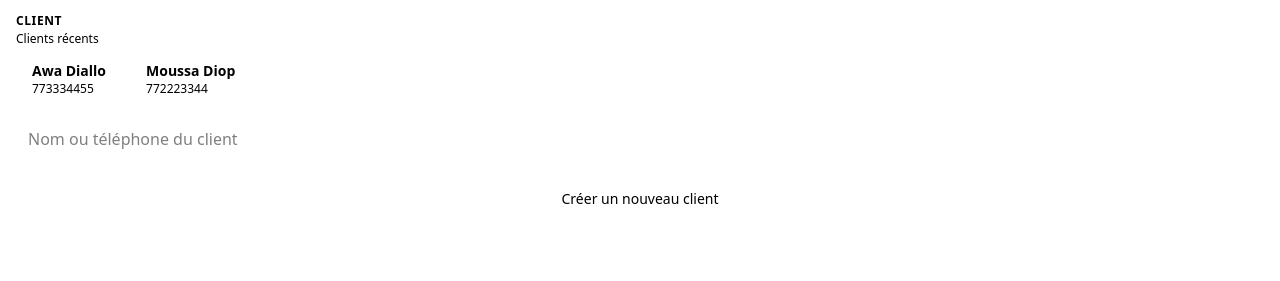
Scenario: SaleClientPicker — chips clients récents › clic sur une chip : sélectionne le client et pré-remplit le champ
The image size is (1280, 281).
Click the button "Awa Diallo 773334455" at (69, 79), box 16,55 -> 122,103
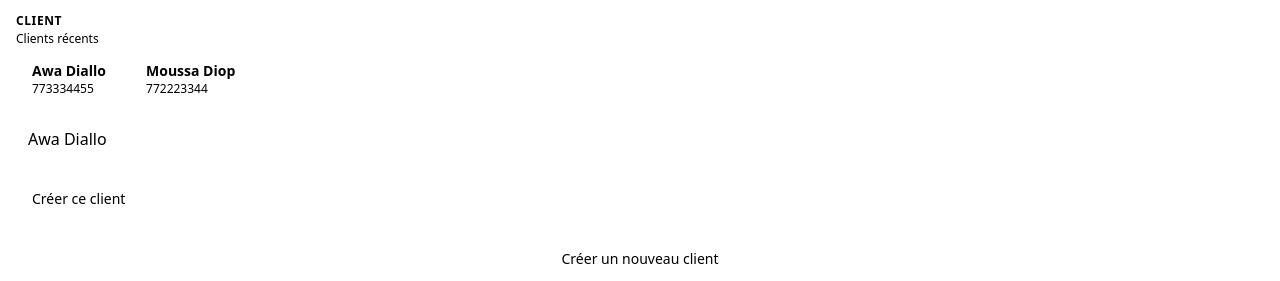
Now the field named "Rechercher un client" holds "Awa Diallo", box 16,115 -> 1264,163
